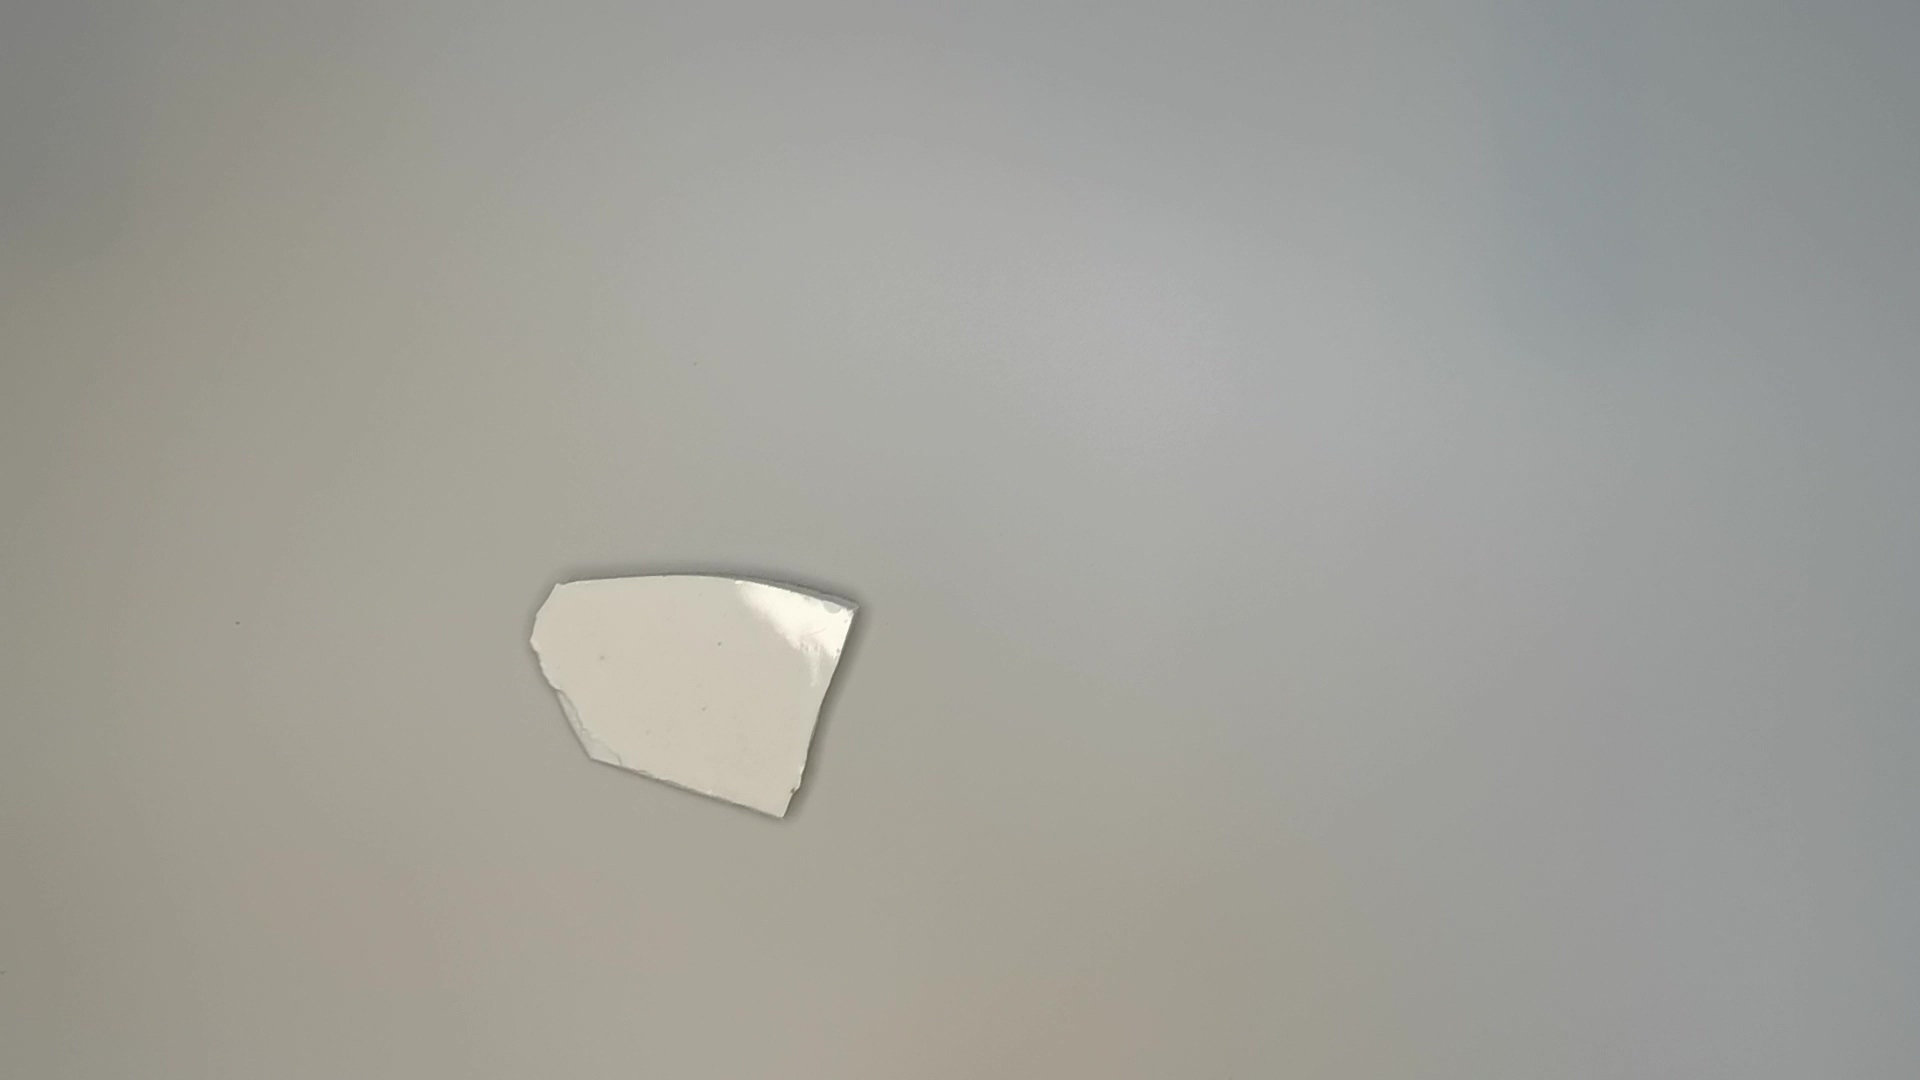ceramic: (524, 564, 862, 832)
